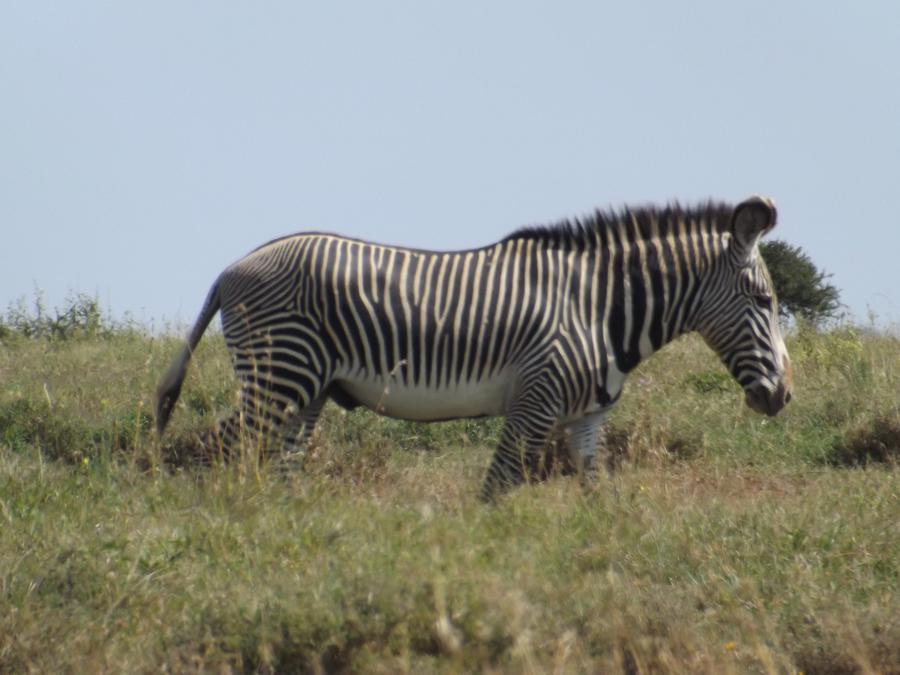zebra_grevys: (199, 204, 604, 419)
